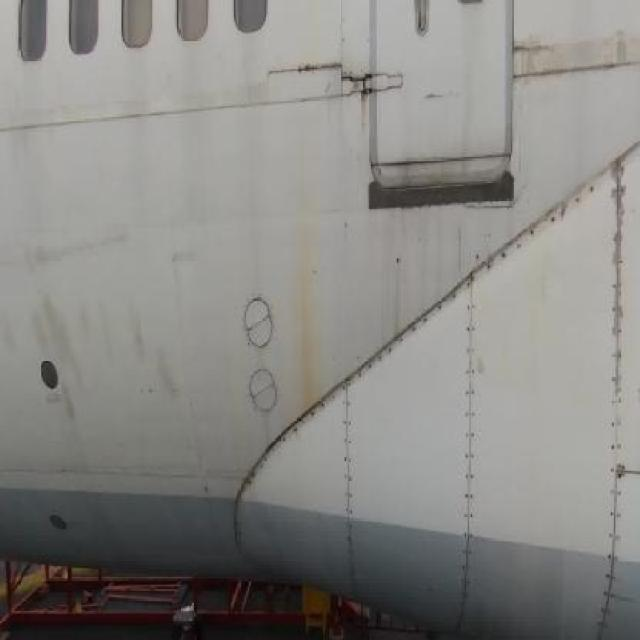Missing-Rivet: (602, 144, 629, 598), (482, 181, 598, 284), (369, 288, 456, 370), (458, 257, 479, 578), (336, 374, 366, 568), (255, 394, 336, 452)
Rust: (281, 170, 330, 421), (352, 62, 388, 163)
Scartch: (4, 280, 188, 422), (514, 28, 634, 103), (5, 216, 143, 275), (164, 232, 205, 306)
